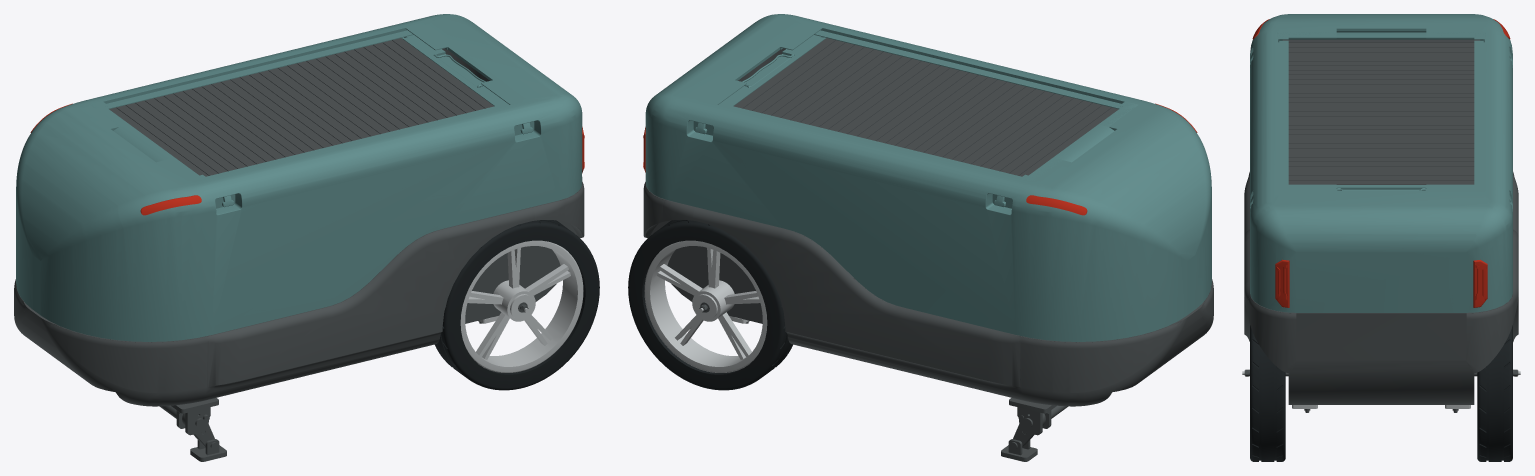
Rendered from fero-final.glb.
3 views of the same model, side by side, from view 1: azimuth 30°, elevation 25°; view 2: azimuth 150°, elevation 25°; view 3: azimuth 270°, elevation 25° (orthographic).
Visible parts, largest first — view 1: P010_Shell_and_Sliding_Cover_1__Upper_Shell, P020_Shell_and_Sliding_Cover_1__Lower_Body_Added_Layer, P150_Urban_Tread_Tire_1__Urban_Tread_24_Pairs_48_Shoulder_Gr, P152_Urban_Wheel_Rim_1__Hub_Lip_3mm_1, P054_Shell_and_Sliding_Cover_1__Lower_Chassis, P006_Shell_and_Sliding_Cover_1__LH_Guide_Ledges_2, P053_Shell_and_Sliding_Cover_1__Unobstructed_450x240_Opening, P009_Shell_and_Sliding_Cover_1__Narrow_13p2mm_Guide_End_Lug_, P016_Shell_and_Sliding_Cover_1__RH_Guide_Ledges_2, P131_Stand_Hinge_Brackets_1__Cross_Brace_Continuous_Fold_Swe, P021_Shell_and_Sliding_Cover_1__Tambour_Slats_10, P033_Shell_and_Sliding_Cover_1__Tambour_Slats_22 (+29 smaller); view 2: P010_Shell_and_Sliding_Cover_1__Upper_Shell, P020_Shell_and_Sliding_Cover_1__Lower_Body_Added_Layer, P151_Urban_Tread_Tire_2__Urban_Tread_24_Pairs_48_Shoulder_Gr, P153_Urban_Wheel_Rim_2__Hub_Lip_3mm_1, P054_Shell_and_Sliding_Cover_1__Lower_Chassis, P016_Shell_and_Sliding_Cover_1__RH_Guide_Ledges_2, P053_Shell_and_Sliding_Cover_1__Unobstructed_450x240_Opening, P009_Shell_and_Sliding_Cover_1__Narrow_13p2mm_Guide_End_Lug_, P130_Stand_Hinge_Brackets_1__Cross_Brace_Continuous_Fold_Swe, P006_Shell_and_Sliding_Cover_1__LH_Guide_Ledges_2, P021_Shell_and_Sliding_Cover_1__Tambour_Slats_10, P033_Shell_and_Sliding_Cover_1__Tambour_Slats_22 (+29 smaller); view 3: P010_Shell_and_Sliding_Cover_1__Upper_Shell, P054_Shell_and_Sliding_Cover_1__Lower_Chassis, P020_Shell_and_Sliding_Cover_1__Lower_Body_Added_Layer, P151_Urban_Tread_Tire_2__Urban_Tread_24_Pairs_48_Shoulder_Gr, P150_Urban_Tread_Tire_1__Urban_Tread_24_Pairs_48_Shoulder_Gr, P006_Shell_and_Sliding_Cover_1__LH_Guide_Ledges_2, P016_Shell_and_Sliding_Cover_1__RH_Guide_Ledges_2, P053_Shell_and_Sliding_Cover_1__Unobstructed_450x240_Opening, P022_Shell_and_Sliding_Cover_1__Tambour_Slats_11, P027_Shell_and_Sliding_Cover_1__Tambour_Slats_16, P029_Shell_and_Sliding_Cover_1__Tambour_Slats_18, P034_Shell_and_Sliding_Cover_1__Tambour_Slats_23 (+35 smaller).
Boxes of the visible parts, x1=… form: P010_Shell_and_Sliding_Cover_1__Upper_Shell: x1=16, y1=14, x2=582, y2=341; P020_Shell_and_Sliding_Cover_1__Lower_Body_Added_Layer: x1=14, y1=182, x2=584, y2=406; P150_Urban_Tread_Tire_1__Urban_Tread_24_Pairs_48_Shoulder_Gr: x1=434, y1=220, x2=599, y2=390; P152_Urban_Wheel_Rim_1__Hub_Lip_3mm_1: x1=460, y1=240, x2=583, y2=372; P054_Shell_and_Sliding_Cover_1__Lower_Chassis: x1=16, y1=182, x2=582, y2=342; P006_Shell_and_Sliding_Cover_1__LH_Guide_Ledges_2: x1=106, y1=30, x2=413, y2=108; P053_Shell_and_Sliding_Cover_1__Unobstructed_450x240_Opening: x1=89, y1=101, x2=207, y2=179; P009_Shell_and_Sliding_Cover_1__Narrow_13p2mm_Guide_End_Lug_: x1=402, y1=35, x2=506, y2=106; P016_Shell_and_Sliding_Cover_1__RH_Guide_Ledges_2: x1=206, y1=103, x2=509, y2=178; P131_Stand_Hinge_Brackets_1__Cross_Brace_Continuous_Fold_Swe: x1=171, y1=398, x2=218, y2=435; P021_Shell_and_Sliding_Cover_1__Tambour_Slats_10: x1=325, y1=54, x2=427, y2=124; P033_Shell_and_Sliding_Cover_1__Tambour_Slats_22: x1=211, y1=82, x2=313, y2=152; P010_Shell_and_Sliding_Cover_1__Upper_Shell: x1=645, y1=14, x2=1211, y2=341; P020_Shell_and_Sliding_Cover_1__Lower_Body_Added_Layer: x1=643, y1=182, x2=1213, y2=406; P151_Urban_Tread_Tire_2__Urban_Tread_24_Pairs_48_Shoulder_Gr: x1=628, y1=220, x2=792, y2=390; P153_Urban_Wheel_Rim_2__Hub_Lip_3mm_1: x1=644, y1=240, x2=767, y2=372; P054_Shell_and_Sliding_Cover_1__Lower_Chassis: x1=645, y1=182, x2=1211, y2=342; P016_Shell_and_Sliding_Cover_1__RH_Guide_Ledges_2: x1=814, y1=30, x2=1121, y2=108; P053_Shell_and_Sliding_Cover_1__Unobstructed_450x240_Opening: x1=1020, y1=101, x2=1138, y2=180; P009_Shell_and_Sliding_Cover_1__Narrow_13p2mm_Guide_End_Lug_: x1=721, y1=35, x2=825, y2=106; P130_Stand_Hinge_Brackets_1__Cross_Brace_Continuous_Fold_Swe: x1=1009, y1=398, x2=1056, y2=435; P006_Shell_and_Sliding_Cover_1__LH_Guide_Ledges_2: x1=718, y1=103, x2=1021, y2=178; P021_Shell_and_Sliding_Cover_1__Tambour_Slats_10: x1=800, y1=54, x2=902, y2=124; P033_Shell_and_Sliding_Cover_1__Tambour_Slats_22: x1=914, y1=82, x2=1016, y2=152; P010_Shell_and_Sliding_Cover_1__Upper_Shell: x1=1250, y1=14, x2=1512, y2=312; P054_Shell_and_Sliding_Cover_1__Lower_Chassis: x1=1250, y1=295, x2=1512, y2=404; P020_Shell_and_Sliding_Cover_1__Lower_Body_Added_Layer: x1=1244, y1=172, x2=1518, y2=375; P151_Urban_Tread_Tire_2__Urban_Tread_24_Pairs_48_Shoulder_Gr: x1=1477, y1=325, x2=1512, y2=461; P150_Urban_Tread_Tire_1__Urban_Tread_24_Pairs_48_Shoulder_Gr: x1=1250, y1=325, x2=1285, y2=461; P006_Shell_and_Sliding_Cover_1__LH_Guide_Ledges_2: x1=1474, y1=40, x2=1484, y2=184; P016_Shell_and_Sliding_Cover_1__RH_Guide_Ledges_2: x1=1278, y1=40, x2=1288, y2=184; P053_Shell_and_Sliding_Cover_1__Unobstructed_450x240_Opening: x1=1277, y1=32, x2=1485, y2=40; P022_Shell_and_Sliding_Cover_1__Tambour_Slats_11: x1=1288, y1=143, x2=1474, y2=148; P027_Shell_and_Sliding_Cover_1__Tambour_Slats_16: x1=1288, y1=120, x2=1474, y2=125; P029_Shell_and_Sliding_Cover_1__Tambour_Slats_18: x1=1288, y1=111, x2=1474, y2=116; P034_Shell_and_Sliding_Cover_1__Tambour_Slats_23: x1=1288, y1=88, x2=1474, y2=93.
Size of the model in its own units: 0.7351 by 0.385 by 0.36.
